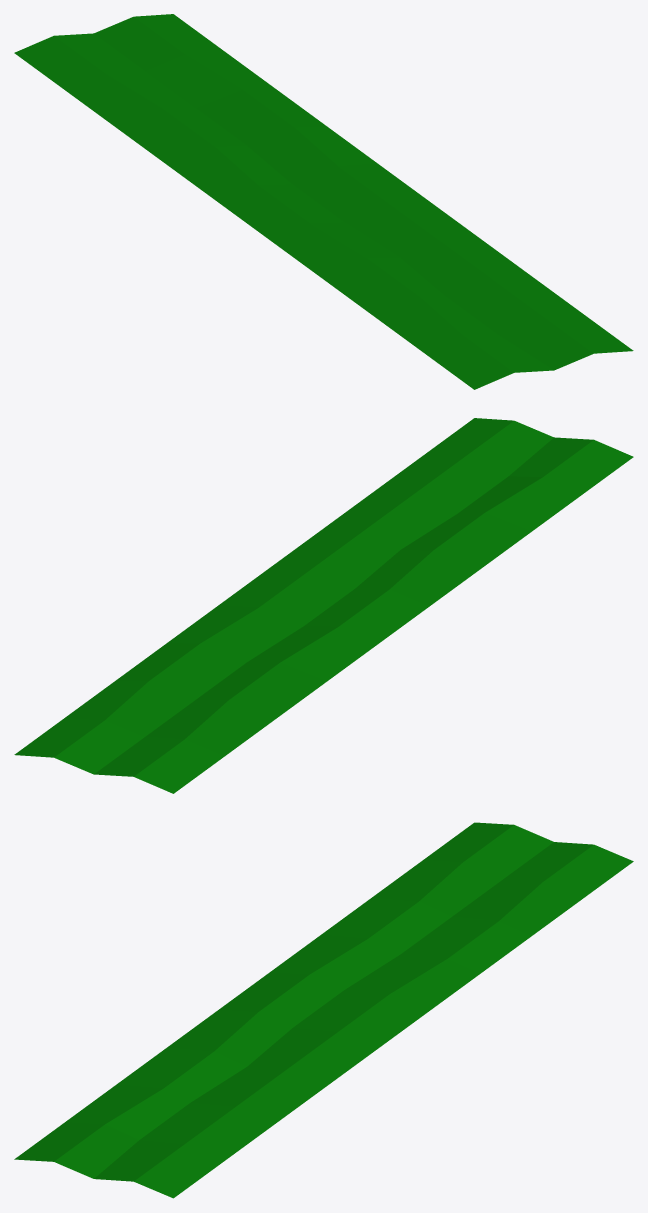
Rendered from GroundScenary01.fbx.
3 views of the same model, one above another, from view 1: azimuth 30°, elevation 25°; view 2: azimuth 150°, elevation 25°; view 3: azimuth 330°, elevation 25° (orthographic).
Parts seen in each view (by area): view 1: GroundScenary01; view 2: GroundScenary01; view 3: GroundScenary01.
Part boxes in pixels (bbox=[...]): GroundScenary01: bbox=[14, 14, 633, 389]; GroundScenary01: bbox=[14, 418, 633, 793]; GroundScenary01: bbox=[14, 822, 633, 1198].
Bounding box in the file's own units: 2 × 0.0888 × 10.
